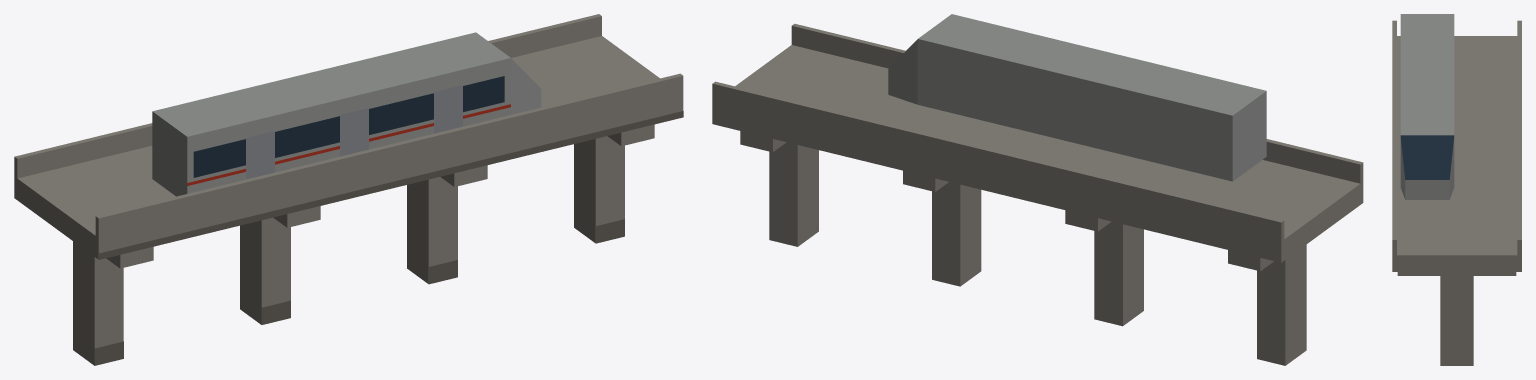
The model's file is building_metro-viaduct.08c07c754194.glb.
3 views of the same model, side by side, from view 1: azimuth 30°, elevation 25°; view 2: azimuth 150°, elevation 25°; view 3: azimuth 270°, elevation 25° (orthographic). The views are drawn at different scales.
Visible parts, largest first — view 1: body; view 2: body; view 3: body.
Boxes of the visible parts, x1,y1,x2,y2 form: body: [14, 14, 683, 365]; body: [712, 14, 1363, 365]; body: [1392, 14, 1521, 365].
Size of the model in its own units: 28 by 10.6 by 7.01.
